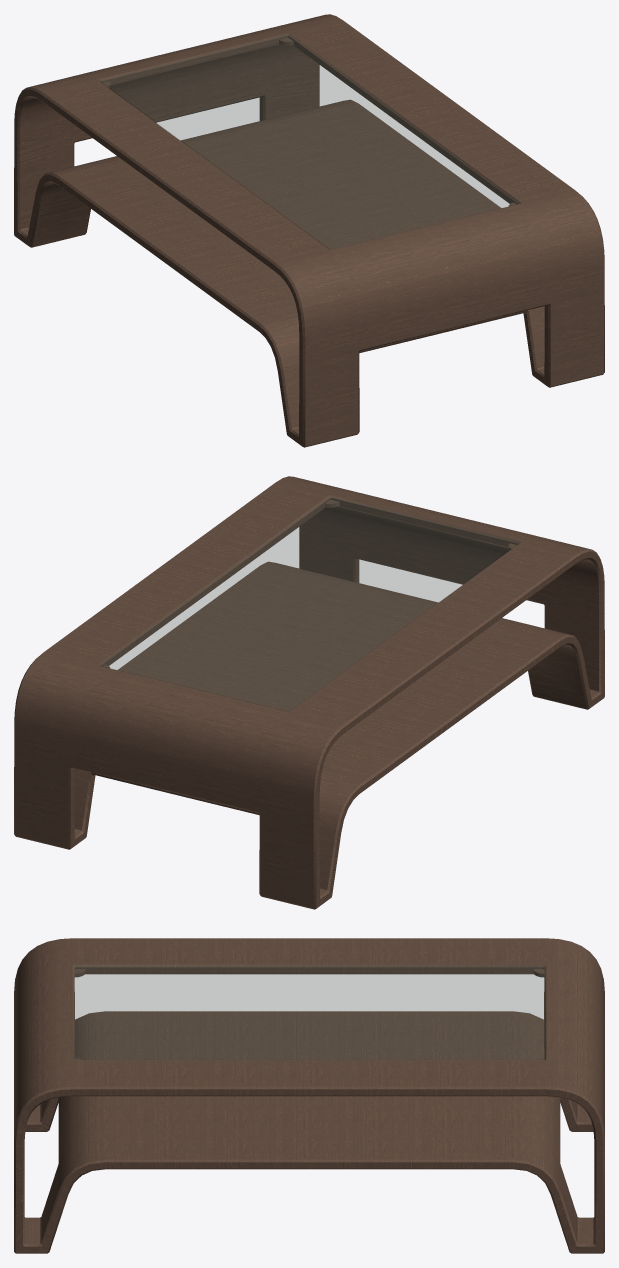
File: apartment_03_table.glb
3 views of the same model, one above another, from view 1: azimuth 30°, elevation 25°; view 2: azimuth 150°, elevation 25°; view 3: azimuth 270°, elevation 25° (orthographic).
Parts seen in each view (by area): view 1: SM_CentralTable_01; view 2: SM_CentralTable_01; view 3: SM_CentralTable_01.
Boxes of the visible parts, x1,y1,x2,y2 form: SM_CentralTable_01: (14,14,604,447); SM_CentralTable_01: (14,476,604,909); SM_CentralTable_01: (14,938,604,1253).
Size of the model in its own units: 0.7874 by 0.4087 by 1.31.
Materials: 2 (2 with a texture image).
